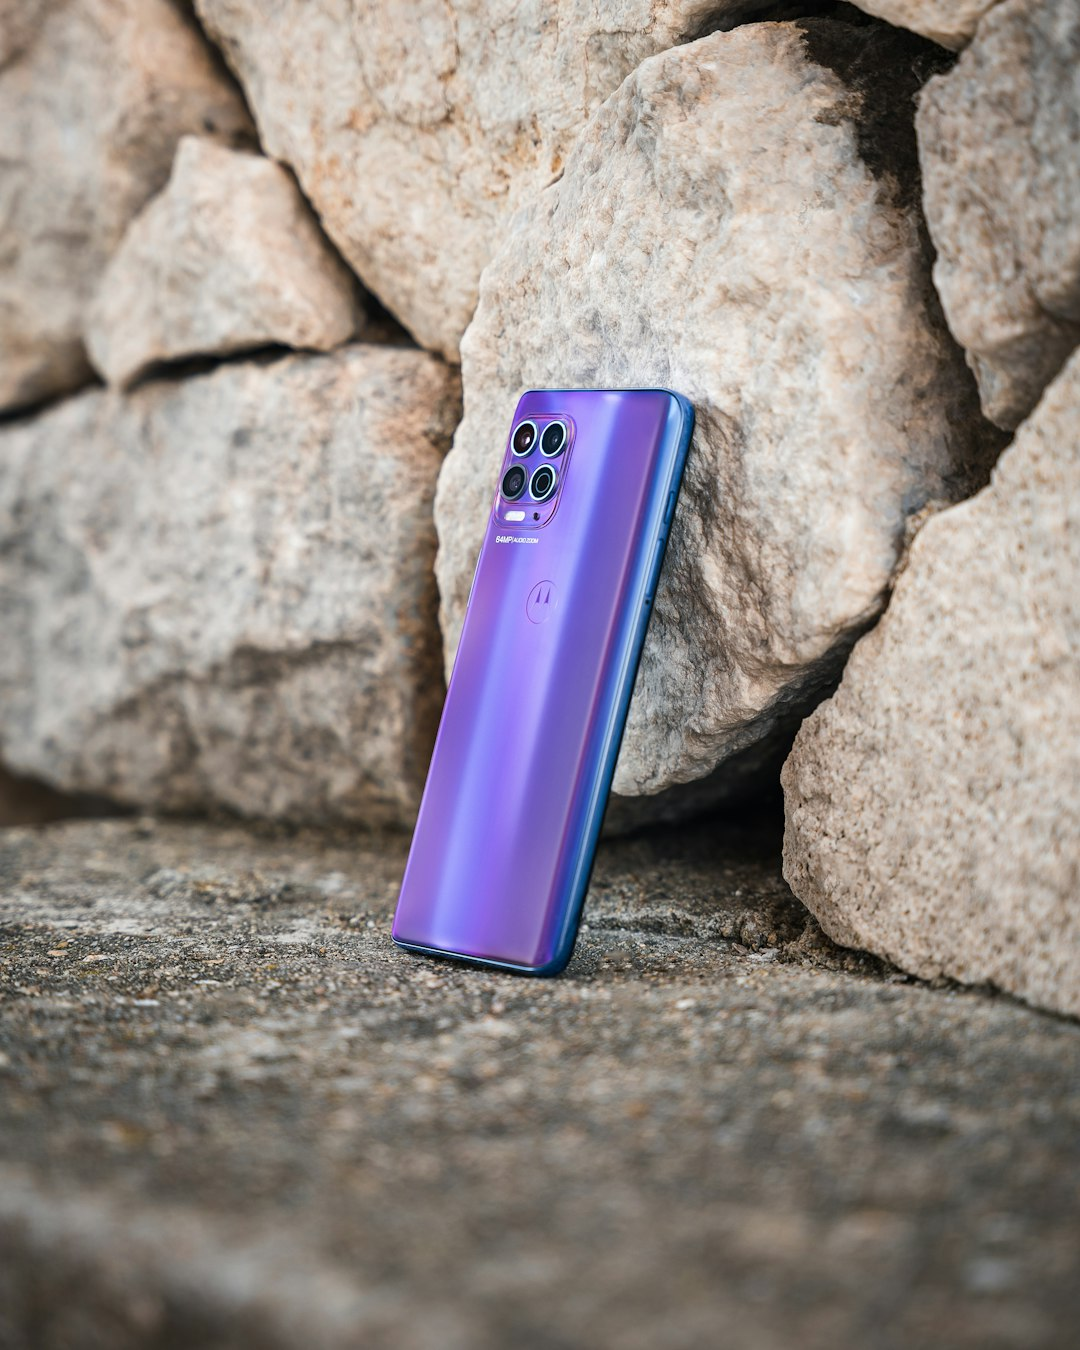phone: (389, 384, 696, 983)
